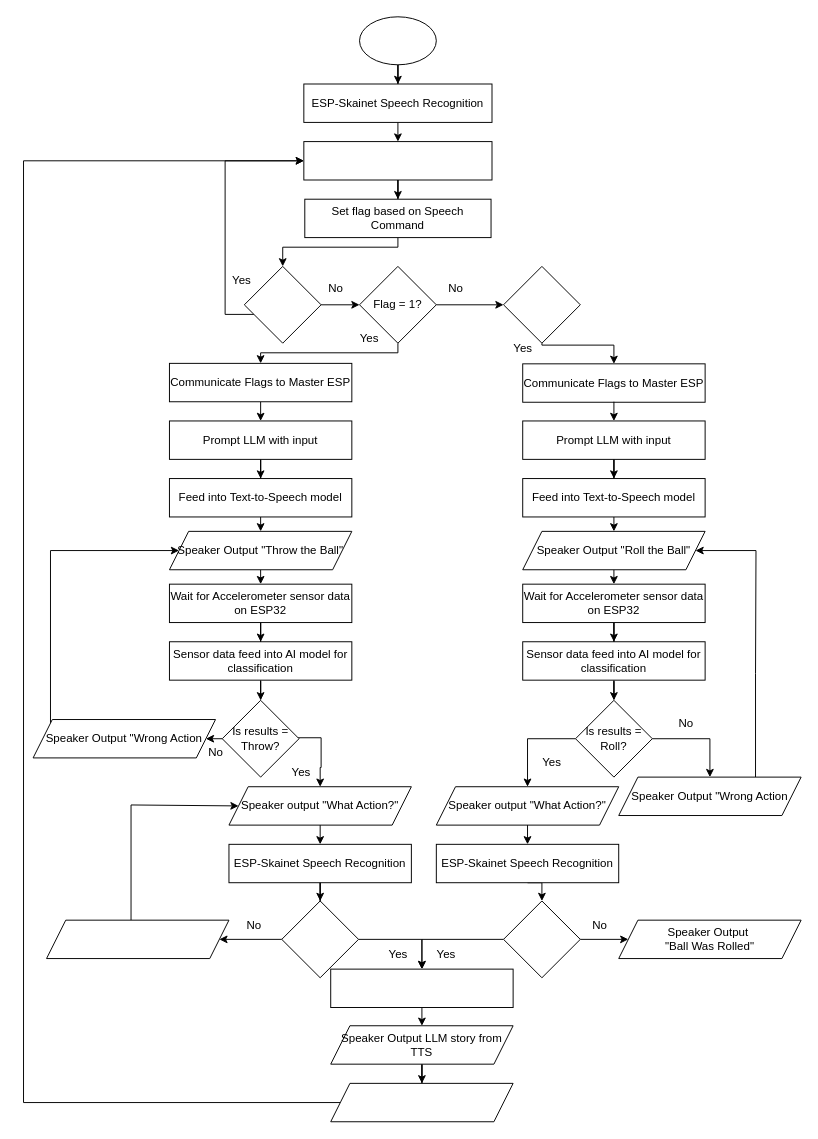
The diagram is 818 pixels wide and 1139 high, and some of its shapes have lost their labels. Each missing label, with the centre of its shape:
Flag = 0?: point 282,304
Flag = 2?: point 541,304
LLM feedb with action specific prompt: point 421,988
Speaker Output "Ball Was Thrown": point 137,939
Start: point 397,40
Stimulus output of RGB LED and vibration motor: point 421,1102
Wait for speech commands: point 397,160
Was Roll Detected?: point 541,939
Was Thrown Detected?: point 320,939
